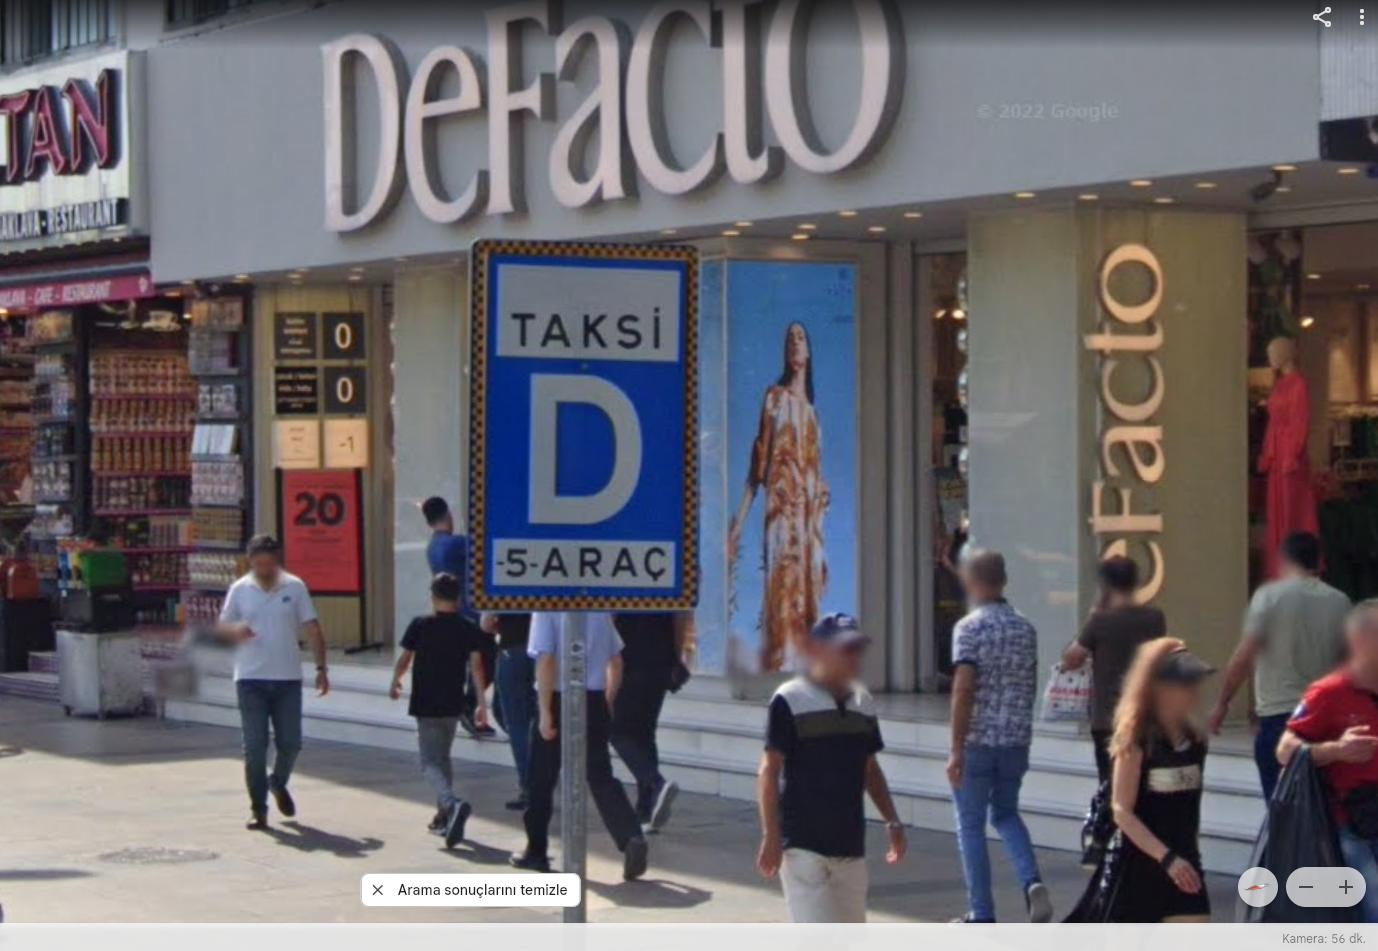station: (488, 341, 668, 531)
